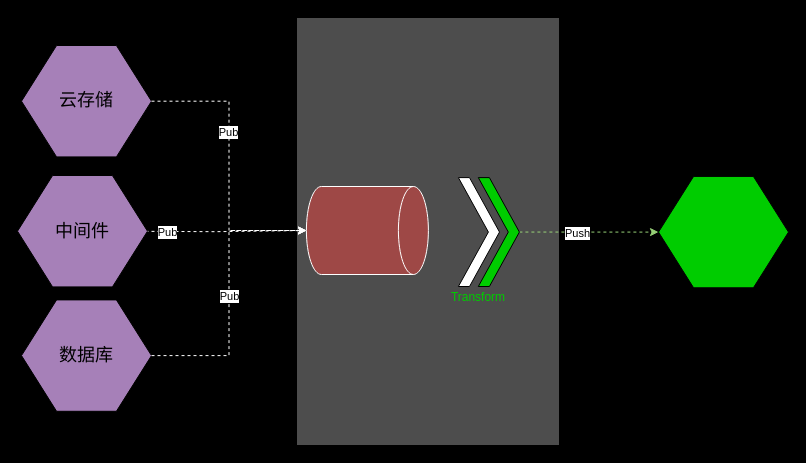
Some shapes in this 806 by 463 pixel diagram are drawn without their labels. The shapes that lost their labels are listed below. From the top down, each one's centre as x and y in pixels, then its label:
At point 366,230: "事件总线".
At point 723,231: "云账单系统".
